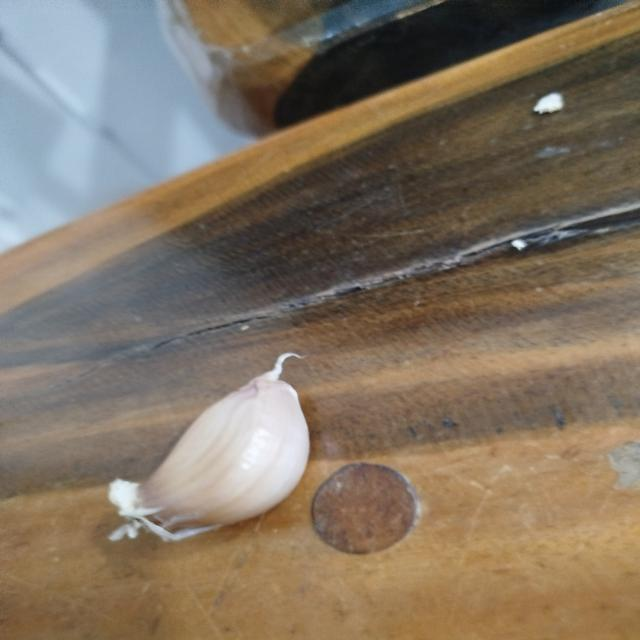garlic: (107, 352, 310, 542)
